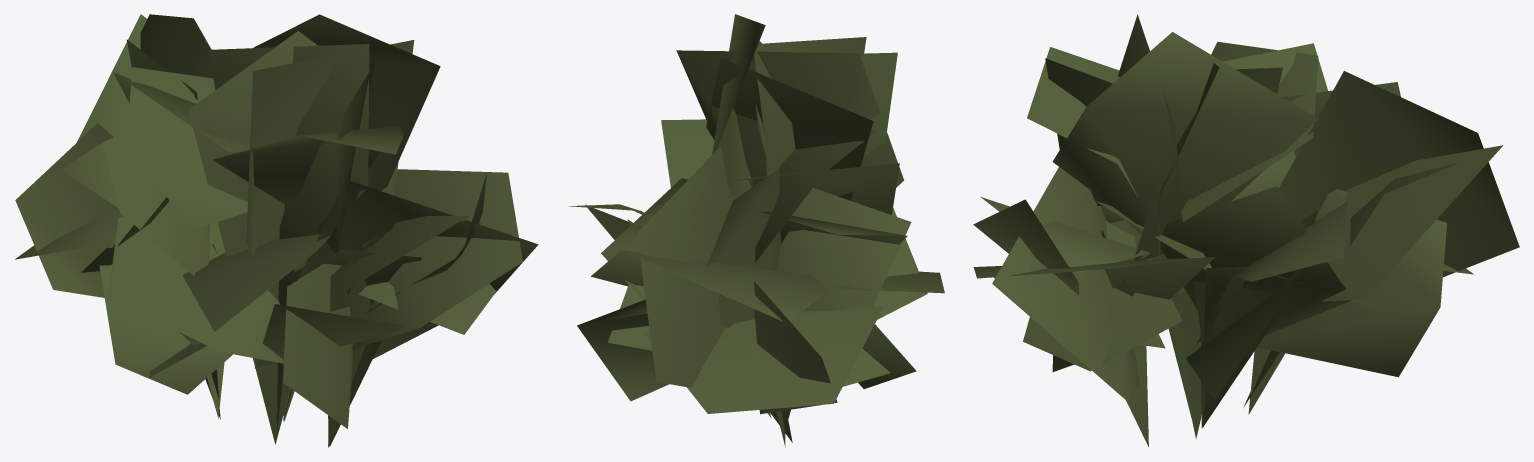
The model's file is bush0.glb.
The picture shows the model from 3 angles, left to right: view 1: azimuth 30°, elevation 25°; view 2: azimuth 150°, elevation 25°; view 3: azimuth 270°, elevation 25°; orthographic projection. The views are drawn at different scales.
Visible parts, largest first — view 1: M_Foliage_Bushes_02; view 2: M_Foliage_Bushes_02; view 3: M_Foliage_Bushes_02.
Part boxes in pixels (x1,y1,x2,y2): M_Foliage_Bushes_02: [15, 14, 538, 447]; M_Foliage_Bushes_02: [569, 14, 944, 447]; M_Foliage_Bushes_02: [973, 14, 1519, 447].
Bounding box in the file's own units: 2.82 × 3.28 × 3.83.
